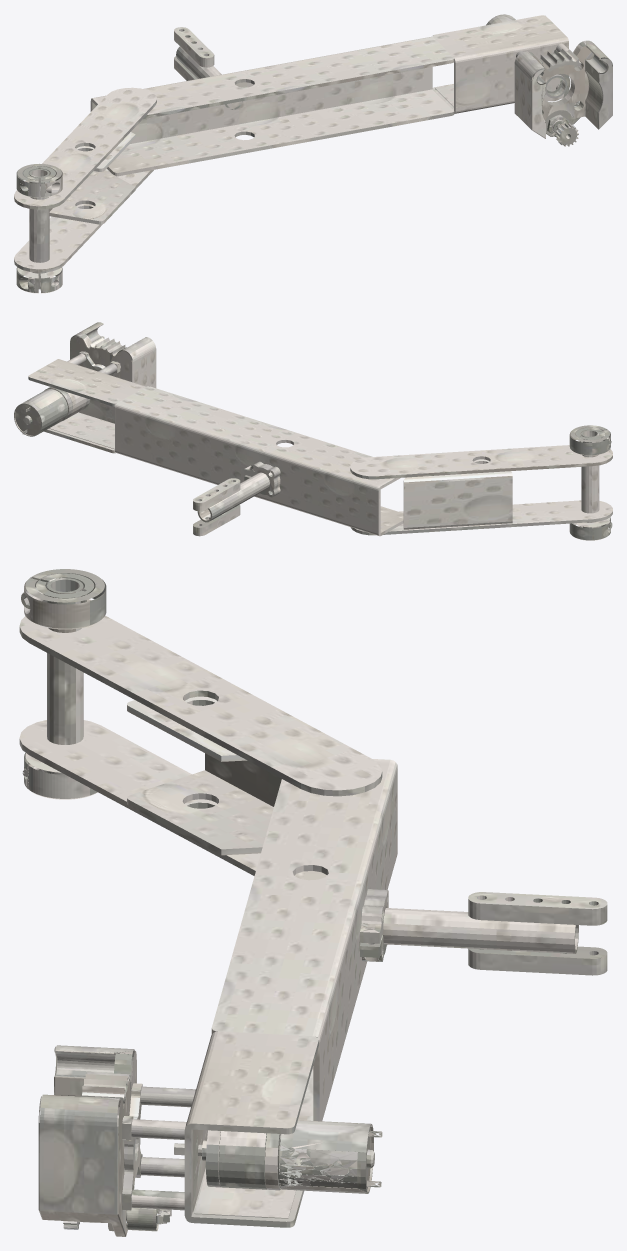
Rendered from rocker_right.dae.
The picture shows the model from 3 angles, top to bottom: view 1: azimuth 30°, elevation 25°; view 2: azimuth 150°, elevation 25°; view 3: azimuth 270°, elevation 25°; orthographic projection. The views are drawn at different scales.
Visible parts, largest first — view 1: rocker_right; view 2: rocker_right; view 3: rocker_right.
Boxes of the visible parts, x1,y1,x2,y2 form: rocker_right: [14, 14, 612, 293]; rocker_right: [14, 322, 612, 540]; rocker_right: [19, 569, 607, 1236].
Size of the model in its own units: 0.4226 by 0.2041 by 0.0762.
1 material, 1 textured.
